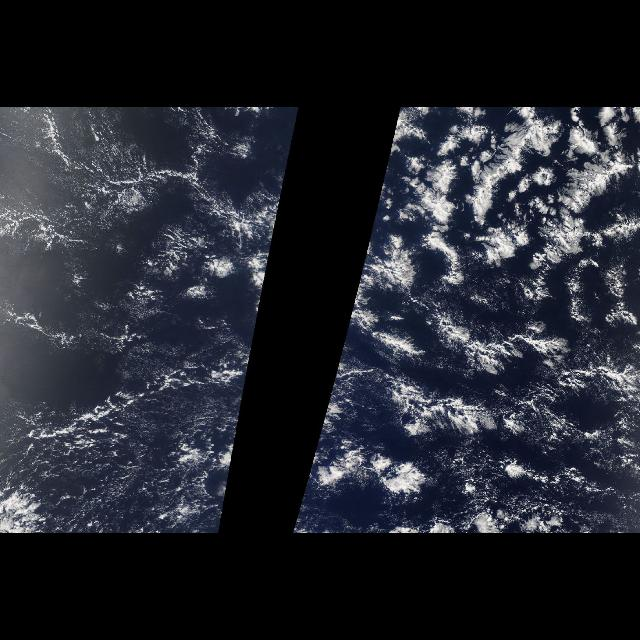Fish: (328, 113, 640, 532), (8, 110, 266, 378)
Flower: (390, 112, 632, 284)
Sugar: (7, 111, 260, 526)
